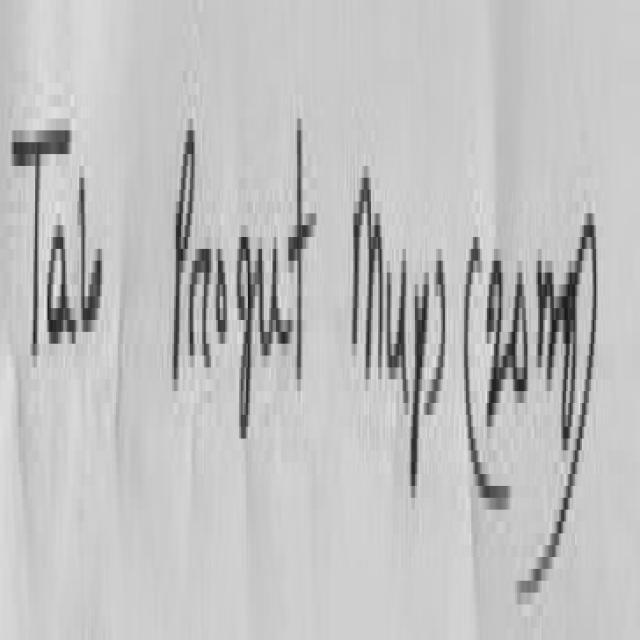0: (515, 273, 529, 385)
2: (489, 261, 513, 421)
P: (176, 119, 195, 373)
T: (13, 130, 70, 350)
a: (45, 225, 74, 375)
b: (77, 157, 105, 349)
g: (236, 225, 252, 454), (562, 264, 577, 434)
m: (353, 166, 383, 373), (535, 257, 567, 403)
o: (216, 249, 227, 338)
p: (410, 249, 447, 490)
r: (191, 247, 211, 390)
t: (282, 115, 316, 373)
u: (259, 237, 292, 372), (384, 228, 410, 397)
